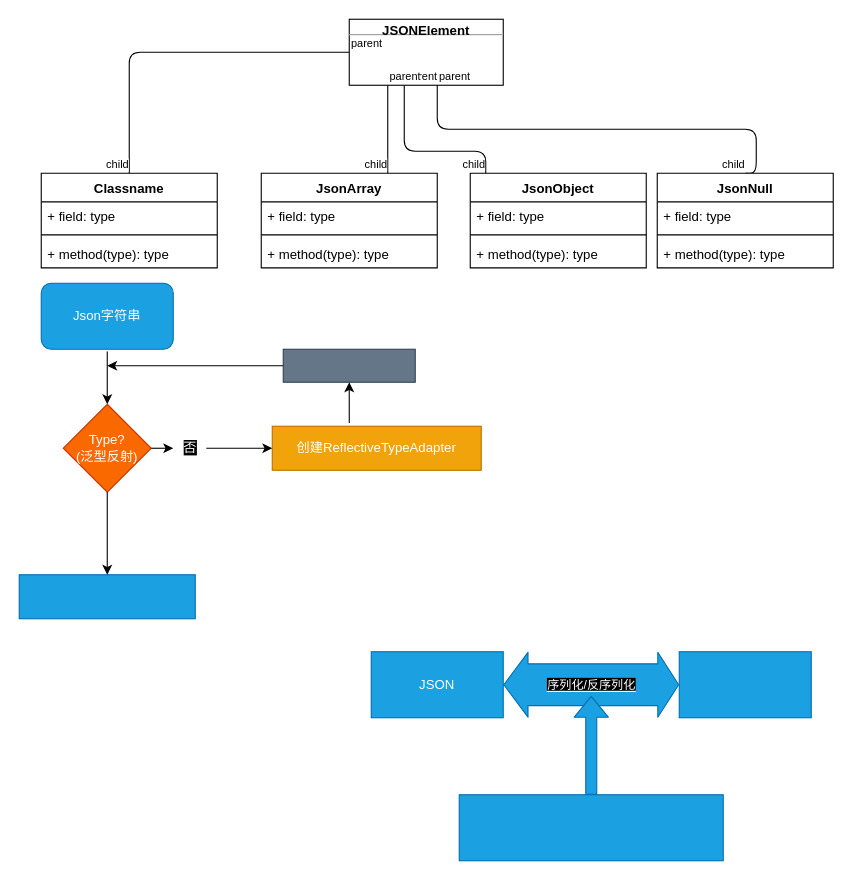
Image size: 853x880. Some labels were removed from this diagram. Here are the shapes that lost their labels. From the top down, the centre of each, then its label:
At [348,365]: "遍历对象的属性".
At [106,596]: "创建对应TypeAdapter返回".
At [744,684]: "Java Object".
At [590,827]: "解析器 {gson,fastjson,jackson...}".
